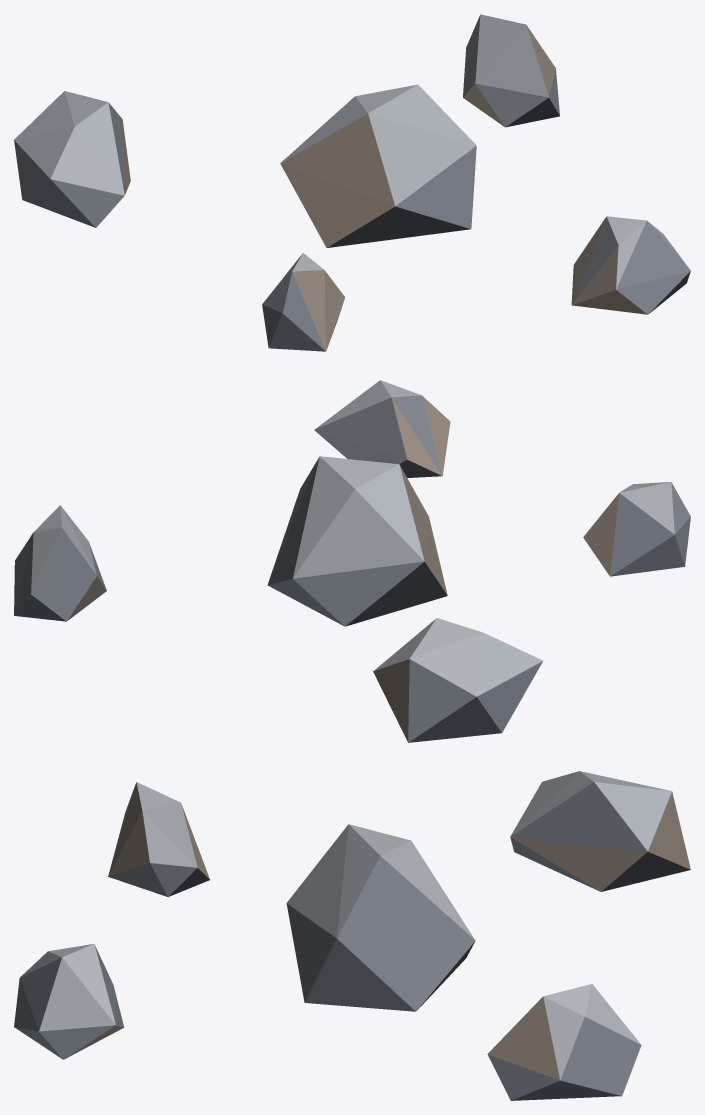
File: pebbles_1.glb
The picture shows the model from 3 angles, top to bottom: view 1: azimuth 30°, elevation 25°; view 2: azimuth 150°, elevation 25°; view 3: azimuth 270°, elevation 25°; orthographic projection. The views are drawn at different scales.
Parts seen in each view (by area): view 1: Body; view 2: Body; view 3: Body.
Part boxes in pixels (x1,y1,x2,y2): Body: (14, 14, 690, 351); Body: (14, 380, 690, 742); Body: (14, 771, 690, 1100).
Size of the model in its own units: 0.8904 by 0.2058 by 0.9218.
